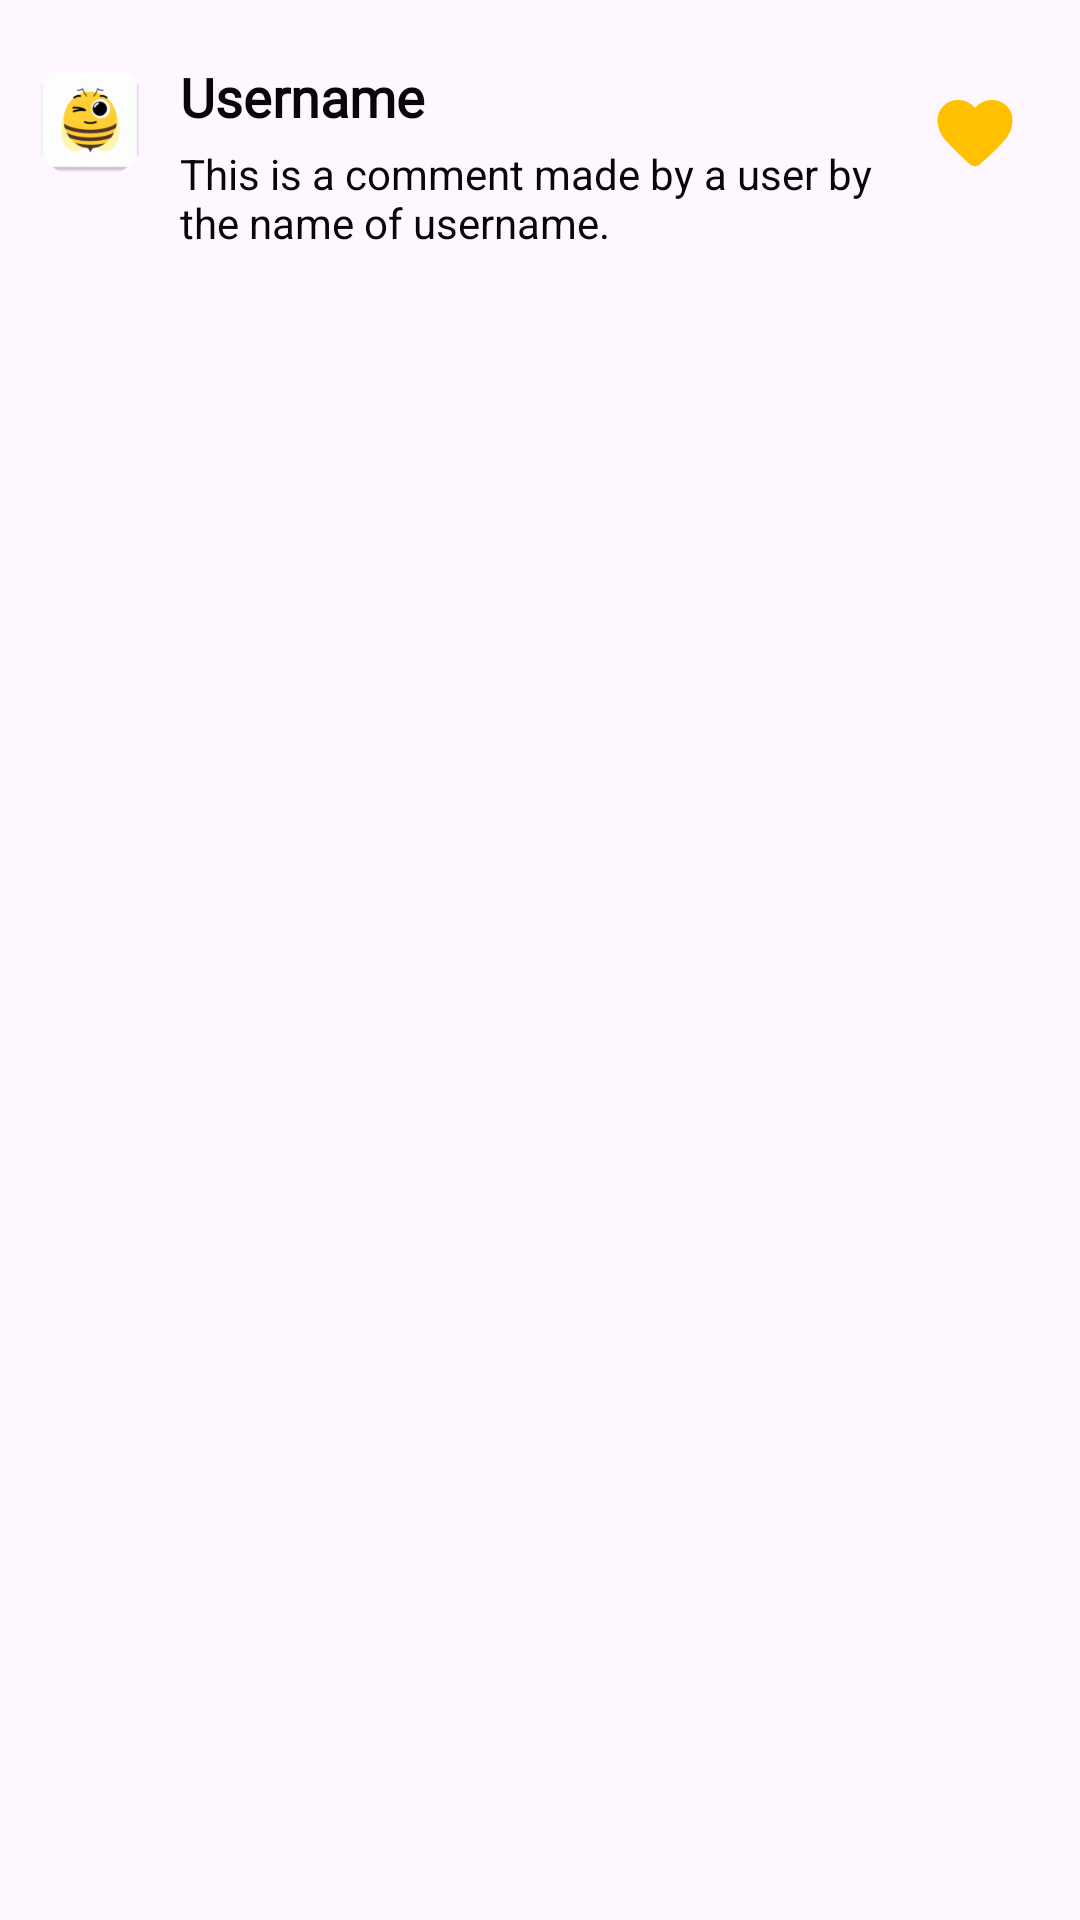

Where to tap for icons on this 1080 x 1920 app screen, as point (x, y):
Like Comment: point (975, 133)
